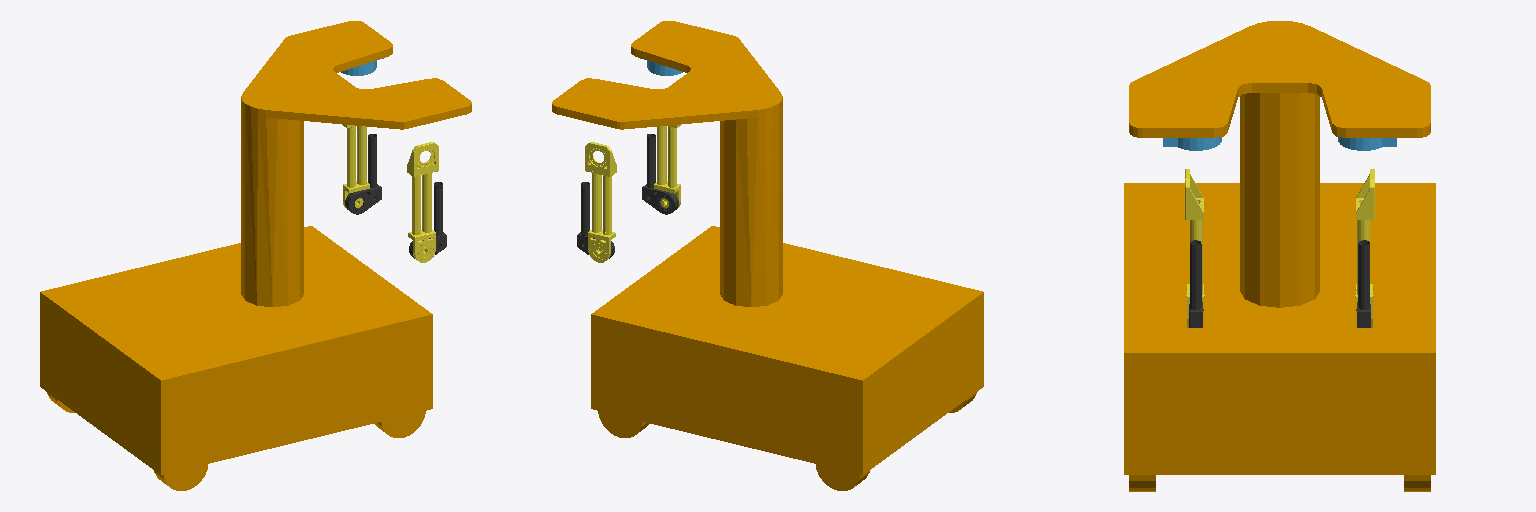
URDF robot description (dual_arm):
<?xml version="1.0" ?>
<!-- =================================================================================== -->
<!-- |    This document was autogenerated by xacro from dual_arm.urdf.xacro            | -->
<!-- |    EDITING THIS FILE BY HAND IS NOT RECOMMENDED                                 | -->
<!-- =================================================================================== -->
<robot name="dual_arm">
  <link name="base_link">
    <visual>
      <origin rpy="0 0 0" xyz="0 0 0"/>
      <geometry>
        <mesh filename="package://asystr_dual_arm_model/meshes/visual/ati_vehicle.dae" scale="0.0018 0.0018 0.0018"/>
      </geometry>
    </visual>
    <collision>
      <origin rpy="0 0 0" xyz="0 0 0"/>
      <geometry>
        <mesh filename="package://asystr_dual_arm_model/meshes/collision/ati_vehicle.stl" scale="0.0018 0.0018 0.0018"/>
      </geometry>
    </collision>
  </link>
  <!-- Import dependency files -->
  <!-- Import dependency files -->
  <!-- Create Links -->
  <link name="left_base_link">
    <visual>
      <origin rpy="0 0 0" xyz="0 0 0"/>
      <geometry>
        <mesh filename="package://asystr_sensible_model/meshes/visual/asystr_sensible/base_link.dae" scale="0.001 0.001 0.001"/>
      </geometry>
    </visual>
    <collision>
      <origin rpy="0 0 0" xyz="0 0 0"/>
      <geometry>
        <mesh filename="package://asystr_sensible_model/meshes/collision/asystr_sensible/base_link.stl" scale="0.001 0.001 0.001"/>
      </geometry>
    </collision>
    <inertial>
      <origin rpy="0 0 0" xyz="0 0 0"/>
      <mass value="0.01"/>
      <inertia ixx="0.01" ixy="0.0" ixz="0.0" iyy="0.01" iyz="0.0" izz="0.01"/>
    </inertial>
  </link>
  <link name="left_link_1">
    <visual>
      <origin rpy="0 0 0" xyz="0 0 0"/>
      <geometry>
        <mesh filename="package://asystr_sensible_model/meshes/visual/asystr_sensible/link_1.dae" scale="0.001 0.001 0.001"/>
      </geometry>
    </visual>
    <collision>
      <origin rpy="0 0 0" xyz="0 0 0"/>
      <geometry>
        <mesh filename="package://asystr_sensible_model/meshes/collision/asystr_sensible/link_1.stl" scale="0.001 0.001 0.001"/>
      </geometry>
    </collision>
    <inertial>
      <origin rpy="0 0 0" xyz="0 0 0"/>
      <mass value="0.01"/>
      <inertia ixx="0.01" ixy="0.0" ixz="0.0" iyy="0.01" iyz="0.0" izz="0.01"/>
    </inertial>
  </link>
  <link name="left_link_2">
    <visual>
      <origin rpy="0 0 0" xyz="0 0 0"/>
      <geometry>
        <mesh filename="package://asystr_sensible_model/meshes/visual/asystr_sensible/link_2.dae" scale="0.001 0.001 0.001"/>
      </geometry>
    </visual>
    <collision>
      <origin rpy="0 0 0" xyz="0 0 0"/>
      <geometry>
        <mesh filename="package://asystr_sensible_model/meshes/collision/asystr_sensible/link_2.stl" scale="0.001 0.001 0.001"/>
      </geometry>
    </collision>
    <inertial>
      <origin rpy="0 0 0" xyz="0 0 0"/>
      <mass value="0.01"/>
      <inertia ixx="0.01" ixy="0.0" ixz="0.0" iyy="0.01" iyz="0.0" izz="0.01"/>
    </inertial>
  </link>
  <link name="left_link_3">
    <visual>
      <origin rpy="0 0 0" xyz="0 0 0"/>
      <geometry>
        <mesh filename="package://asystr_sensible_model/meshes/visual/asystr_sensible/link_3.dae" scale="0.001 0.001 0.001"/>
      </geometry>
    </visual>
    <collision>
      <origin rpy="0 0 0" xyz="0 0 0"/>
      <geometry>
        <mesh filename="package://asystr_sensible_model/meshes/collision/asystr_sensible/link_3.stl" scale="0.001 0.001 0.001"/>
      </geometry>
    </collision>
    <inertial>
      <origin rpy="0 0 0" xyz="0 0 0"/>
      <mass value="0.01"/>
      <inertia ixx="0.01" ixy="0.0" ixz="0.0" iyy="0.01" iyz="0.0" izz="0.01"/>
    </inertial>
  </link>
  <link name="left_wrist_adapter">
    <visual>
      <origin rpy="0 0 0" xyz="0 0 0"/>
      <geometry>
        <mesh filename="package://asystr_sensible_model/meshes/visual/RPR/wrist_adapter.dae" scale="0.001 0.001 0.001"/>
      </geometry>
    </visual>
    <collision>
      <origin rpy="0 0 0" xyz="0 0 0"/>
      <geometry>
        <mesh filename="package://asystr_sensible_model/meshes/collision/RPR/wrist_adapter.stl" scale="0.001 0.001 0.001"/>
      </geometry>
    </collision>
    <inertial>
      <origin rpy="0 0 0" xyz="0 0 0"/>
      <mass value="0.01"/>
      <inertia ixx="0.01" ixy="0.0" ixz="0.0" iyy="0.01" iyz="0.0" izz="0.01"/>
    </inertial>
  </link>
  <!-- Create Joints -->
  <joint name="left_joint_1" type="revolute">
    <parent link="left_base_link"/>
    <child link="left_link_1"/>
    <origin rpy="0 0.0 0.0" xyz="0 -0.0 0.2592"/>
    <axis xyz="0 0 1"/>
    <limit effort="100.0" lower="-3.141592653589793" upper="3.141592653589793" velocity="100.0"/>
  </joint>
  <joint name="left_joint_2" type="revolute">
    <parent link="left_link_1"/>
    <child link="left_link_2"/>
    <origin rpy="1.5707963 -1.5707962999999996 4.2089324414645615e-08" xyz="0 0.0 0.0"/>
    <axis xyz="0 0 1"/>
    <limit effort="100.0" lower="-2.0943951023931953" upper="1.5707963267948966" velocity="100.0"/>
  </joint>
  <joint name="left_joint_3" type="revolute">
    <parent link="left_link_2"/>
    <child link="left_link_3"/>
    <origin rpy="0 0.0 -1.5707963" xyz="0.45 0.0 0.0"/>
    <axis xyz="0 0 1"/>
    <limit effort="100.0" lower="0.0" upper="3.141592653589793" velocity="100.0"/>
  </joint>
  <joint name="left_wrist_frame" type="fixed">
    <parent link="left_link_3"/>
    <child link="left_wrist_adapter"/>
    <origin rpy="1.5707963 1.5707962999999996 -4.2089324414645615e-08" xyz="0.117 -0.3299999999999999 8.84231587305945e-09"/>
  </joint>
  <!-- Create Links -->
  <link name="left_link_4">
    <visual>
      <origin rpy="0 0 0" xyz="0 0 0"/>
      <geometry>
        <mesh filename="package://asystr_sensible_model/meshes/visual/RPR/differential.dae" scale="0.001 0.001 0.001"/>
      </geometry>
    </visual>
    <collision>
      <origin rpy="0 0 0" xyz="0 0 0"/>
      <geometry>
        <mesh filename="package://asystr_sensible_model/meshes/collision/RPR/differential.stl" scale="0.001 0.001 0.001"/>
      </geometry>
    </collision>
    <inertial>
      <origin rpy="0 0 0" xyz="0 0 0"/>
      <mass value="0.01"/>
      <inertia ixx="0.01" ixy="0.0" ixz="0.0" iyy="0.01" iyz="0.0" izz="0.01"/>
    </inertial>
  </link>
  <link name="left_link_5">
    <inertial>
      <origin rpy="0 0 0" xyz="0 0 0"/>
      <mass value="0.01"/>
      <inertia ixx="0.01" ixy="0.0" ixz="0.0" iyy="0.01" iyz="0.0" izz="0.01"/>
    </inertial>
  </link>
  <link name="left_link_6">
    <visual>
      <origin rpy="0 0 0" xyz="0 0 0"/>
      <geometry>
        <mesh filename="package://asystr_sensible_model/meshes/visual/RPR/flange.dae" scale="0.001 0.001 0.001"/>
      </geometry>
    </visual>
    <collision>
      <origin rpy="0 0 0" xyz="0 0 0"/>
      <geometry>
        <mesh filename="package://asystr_sensible_model/meshes/collision/RPR/flange.stl" scale="0.001 0.001 0.001"/>
      </geometry>
    </collision>
    <inertial>
      <origin rpy="0 0 0" xyz="0 0 0"/>
      <mass value="0.01"/>
      <inertia ixx="0.01" ixy="0.0" ixz="0.0" iyy="0.01" iyz="0.0" izz="0.01"/>
    </inertial>
  </link>
  <!-- Create Joints -->
  <joint name="left_joint_4" type="revolute">
    <parent link="left_wrist_adapter"/>
    <child link="left_link_4"/>
    <origin rpy="0 -0.0 1.5707963" xyz="0 -0.0 0.08"/>
    <axis xyz="0 0 1"/>
    <limit effort="100.0" lower="-3.141592653589793" upper="3.141592653589793" velocity="100.0"/>
  </joint>
  <joint name="left_joint_5" type="revolute">
    <parent link="left_link_4"/>
    <child link="left_link_5"/>
    <origin rpy="1.5707963 0.0 0.0" xyz="0 0.0 0.0"/>
    <axis xyz="0 0 1"/>
    <limit effort="100.0" lower="-1.5707963267948966" upper="1.5707963267948966" velocity="100.0"/>
  </joint>
  <joint name="left_joint_6" type="revolute">
    <parent link="left_link_5"/>
    <child link="left_link_6"/>
    <origin rpy="-1.5707963 -0.0 0.0" xyz="0 0.04999999999999999 1.3397448292514317e-09"/>
    <axis xyz="0 0 1"/>
    <limit effort="100.0" lower="-3.141592653589793" upper="3.141592653589793" velocity="100.0"/>
  </joint>
  <joint name="base_to_left" type="fixed">
    <parent link="base_link"/>
    <child link="left_base_link"/>
    <origin rpy="3.141592653589793 0 0" xyz="0.76 0.28 1.475"/>
  </joint>
  <!-- Import dependency files -->
  <!-- Import dependency files -->
  <!-- Create Links -->
  <link name="right_base_link">
    <visual>
      <origin rpy="0 0 0" xyz="0 0 0"/>
      <geometry>
        <mesh filename="package://asystr_sensible_model/meshes/visual/asystr_sensible/base_link.dae" scale="0.001 -0.001 0.001"/>
      </geometry>
    </visual>
    <collision>
      <origin rpy="0 0 0" xyz="0 0 0"/>
      <geometry>
        <mesh filename="package://asystr_sensible_model/meshes/collision/asystr_sensible/base_link.stl" scale="0.001 -0.001 0.001"/>
      </geometry>
    </collision>
    <inertial>
      <origin rpy="0 0 0" xyz="0 0 0"/>
      <mass value="0.01"/>
      <inertia ixx="0.01" ixy="0.0" ixz="0.0" iyy="0.01" iyz="0.0" izz="0.01"/>
    </inertial>
  </link>
  <link name="right_link_1">
    <visual>
      <origin rpy="0 0 0" xyz="0 0 0"/>
      <geometry>
        <mesh filename="package://asystr_sensible_model/meshes/visual/asystr_sensible/link_1.dae" scale="0.001 -0.001 0.001"/>
      </geometry>
    </visual>
    <collision>
      <origin rpy="0 0 0" xyz="0 0 0"/>
      <geometry>
        <mesh filename="package://asystr_sensible_model/meshes/collision/asystr_sensible/link_1.stl" scale="0.001 -0.001 0.001"/>
      </geometry>
    </collision>
    <inertial>
      <origin rpy="0 0 0" xyz="0 0 0"/>
      <mass value="0.01"/>
      <inertia ixx="0.01" ixy="0.0" ixz="0.0" iyy="0.01" iyz="0.0" izz="0.01"/>
    </inertial>
  </link>
  <link name="right_link_2">
    <visual>
      <origin rpy="0 0 0" xyz="0 0 0"/>
      <geometry>
        <mesh filename="package://asystr_sensible_model/meshes/visual/asystr_sensible/link_2.dae" scale="0.001 0.001 -0.001"/>
      </geometry>
    </visual>
    <collision>
      <origin rpy="0 0 0" xyz="0 0 0"/>
      <geometry>
        <mesh filename="package://asystr_sensible_model/meshes/collision/asystr_sensible/link_2.stl" scale="0.001 0.001 -0.001"/>
      </geometry>
    </collision>
    <inertial>
      <origin rpy="0 0 0" xyz="0 0 0"/>
      <mass value="0.01"/>
      <inertia ixx="0.01" ixy="0.0" ixz="0.0" iyy="0.01" iyz="0.0" izz="0.01"/>
    </inertial>
  </link>
  <link name="right_link_3">
    <visual>
      <origin rpy="0 0 0" xyz="0 0 0"/>
      <geometry>
        <mesh filename="package://asystr_sensible_model/meshes/visual/asystr_sensible/link_3.dae" scale="0.001 0.001 -0.001"/>
      </geometry>
    </visual>
    <collision>
      <origin rpy="0 0 0" xyz="0 0 0"/>
      <geometry>
        <mesh filename="package://asystr_sensible_model/meshes/collision/asystr_sensible/link_3.stl" scale="0.001 0.001 -0.001"/>
      </geometry>
    </collision>
    <inertial>
      <origin rpy="0 0 0" xyz="0 0 0"/>
      <mass value="0.01"/>
      <inertia ixx="0.01" ixy="0.0" ixz="0.0" iyy="0.01" iyz="0.0" izz="0.01"/>
    </inertial>
  </link>
  <link name="right_wrist_adapter">
    <visual>
      <origin rpy="0 0 0" xyz="0 0 0"/>
      <geometry>
        <mesh filename="package://asystr_sensible_model/meshes/visual/RPR/wrist_adapter.dae" scale="0.001 0.001 0.001"/>
      </geometry>
    </visual>
    <collision>
      <origin rpy="0 0 0" xyz="0 0 0"/>
      <geometry>
        <mesh filename="package://asystr_sensible_model/meshes/collision/RPR/wrist_adapter.stl" scale="0.001 0.001 0.001"/>
      </geometry>
    </collision>
    <inertial>
      <origin rpy="0 0 0" xyz="0 0 0"/>
      <mass value="0.01"/>
      <inertia ixx="0.01" ixy="0.0" ixz="0.0" iyy="0.01" iyz="0.0" izz="0.01"/>
    </inertial>
  </link>
  <!-- Create Joints -->
  <joint name="right_joint_1" type="revolute">
    <parent link="right_base_link"/>
    <child link="right_link_1"/>
    <origin rpy="0 0.0 0.0" xyz="0 -0.0 0.2592"/>
    <axis xyz="0 0 1"/>
    <limit effort="100.0" lower="-3.141592653589793" upper="3.141592653589793" velocity="100.0"/>
  </joint>
  <joint name="right_joint_2" type="revolute">
    <parent link="right_link_1"/>
    <child link="right_link_2"/>
    <origin rpy="1.5707963 -1.5707962999999996 4.2089324414645615e-08" xyz="0 0.0 0.0"/>
    <axis xyz="0 0 1"/>
    <limit effort="100.0" lower="-2.0943951023931953" upper="1.5707963267948966" velocity="100.0"/>
  </joint>
  <joint name="right_joint_3" type="revolute">
    <parent link="right_link_2"/>
    <child link="right_link_3"/>
    <origin rpy="0 0.0 -1.5707963" xyz="0.45 0.0 0.0"/>
    <axis xyz="0 0 1"/>
    <limit effort="100.0" lower="0.0" upper="3.141592653589793" velocity="100.0"/>
  </joint>
  <joint name="right_wrist_frame" type="fixed">
    <parent link="right_link_3"/>
    <child link="right_wrist_adapter"/>
    <origin rpy="1.5707963 1.5707962999999996 -4.2089324414645615e-08" xyz="0.117 -0.3299999999999999 8.84231587305945e-09"/>
  </joint>
  <!-- Create Links -->
  <link name="right_link_4">
    <visual>
      <origin rpy="0 0 0" xyz="0 0 0"/>
      <geometry>
        <mesh filename="package://asystr_sensible_model/meshes/visual/RPR/differential.dae" scale="0.001 0.001 0.001"/>
      </geometry>
    </visual>
    <collision>
      <origin rpy="0 0 0" xyz="0 0 0"/>
      <geometry>
        <mesh filename="package://asystr_sensible_model/meshes/collision/RPR/differential.stl" scale="0.001 0.001 0.001"/>
      </geometry>
    </collision>
    <inertial>
      <origin rpy="0 0 0" xyz="0 0 0"/>
      <mass value="0.01"/>
      <inertia ixx="0.01" ixy="0.0" ixz="0.0" iyy="0.01" iyz="0.0" izz="0.01"/>
    </inertial>
  </link>
  <link name="right_link_5">
    <inertial>
      <origin rpy="0 0 0" xyz="0 0 0"/>
      <mass value="0.01"/>
      <inertia ixx="0.01" ixy="0.0" ixz="0.0" iyy="0.01" iyz="0.0" izz="0.01"/>
    </inertial>
  </link>
  <link name="right_link_6">
    <visual>
      <origin rpy="0 0 0" xyz="0 0 0"/>
      <geometry>
        <mesh filename="package://asystr_sensible_model/meshes/visual/RPR/flange.dae" scale="0.001 0.001 0.001"/>
      </geometry>
    </visual>
    <collision>
      <origin rpy="0 0 0" xyz="0 0 0"/>
      <geometry>
        <mesh filename="package://asystr_sensible_model/meshes/collision/RPR/flange.stl" scale="0.001 0.001 0.001"/>
      </geometry>
    </collision>
    <inertial>
      <origin rpy="0 0 0" xyz="0 0 0"/>
      <mass value="0.01"/>
      <inertia ixx="0.01" ixy="0.0" ixz="0.0" iyy="0.01" iyz="0.0" izz="0.01"/>
    </inertial>
  </link>
  <!-- Create Joints -->
  <joint name="right_joint_4" type="revolute">
    <parent link="right_wrist_adapter"/>
    <child link="right_link_4"/>
    <origin rpy="0 -0.0 1.5707963" xyz="0 -0.0 0.08"/>
    <axis xyz="0 0 1"/>
    <limit effort="100.0" lower="-3.141592653589793" upper="3.141592653589793" velocity="100.0"/>
  </joint>
  <joint name="right_joint_5" type="revolute">
    <parent link="right_link_4"/>
    <child link="right_link_5"/>
    <origin rpy="1.5707963 0.0 0.0" xyz="0 0.0 0.0"/>
    <axis xyz="0 0 1"/>
    <limit effort="100.0" lower="-1.5707963267948966" upper="1.5707963267948966" velocity="100.0"/>
  </joint>
  <joint name="right_joint_6" type="revolute">
    <parent link="right_link_5"/>
    <child link="right_link_6"/>
    <origin rpy="-1.5707963 -0.0 0.0" xyz="0 0.04999999999999999 1.3397448292514317e-09"/>
    <axis xyz="0 0 1"/>
    <limit effort="100.0" lower="-3.141592653589793" upper="3.141592653589793" velocity="100.0"/>
  </joint>
  <joint name="base_to_right" type="fixed">
    <parent link="base_link"/>
    <child link="right_base_link"/>
    <origin rpy="3.141592653589793 0 0" xyz="0.76 -0.28 1.475"/>
  </joint>
</robot>

--- Render facts (derived) ---
The picture shows the robot from 3 angles, left to right: view 1: azimuth 30°, elevation 25°; view 2: azimuth 150°, elevation 25°; view 3: azimuth 270°, elevation 25°; orthographic projection.
Model dual_arm with 17 links and 16 joints (12 revolute, 4 fixed), rooted at base_link, posed all joints at 0.
Visible links, largest first — view 1: base_link, right_link_2, left_link_2, left_link_3, right_link_3; view 2: base_link, left_link_2, right_link_2, right_link_3, left_link_3; view 3: base_link, left_link_2, right_link_2, left_link_3, right_link_3, left_base_link, right_base_link.
Link boxes in pixels (x1,y1,x2,y2): base_link: (40, 21, 471, 490); right_link_2: (407, 142, 438, 262); left_link_2: (342, 124, 369, 208); left_link_3: (345, 134, 381, 214); right_link_3: (409, 182, 446, 258); base_link: (552, 21, 983, 490); left_link_2: (585, 142, 616, 262); right_link_2: (654, 124, 681, 208); right_link_3: (642, 134, 678, 214); left_link_3: (577, 182, 614, 258); base_link: (1124, 21, 1435, 491); left_link_2: (1355, 169, 1374, 327); right_link_2: (1185, 169, 1204, 327); left_link_3: (1356, 240, 1370, 327); right_link_3: (1189, 240, 1203, 327); left_base_link: (1338, 137, 1396, 150); right_base_link: (1163, 137, 1221, 150).
Size in the robot's own frame: 1.57 by 1.04 by 1.5 metres.
7 mesh visuals loaded from 8 distinct referenced files (4 Collada DAE); not drawn: 8 (reference not matched to a file when rendering).